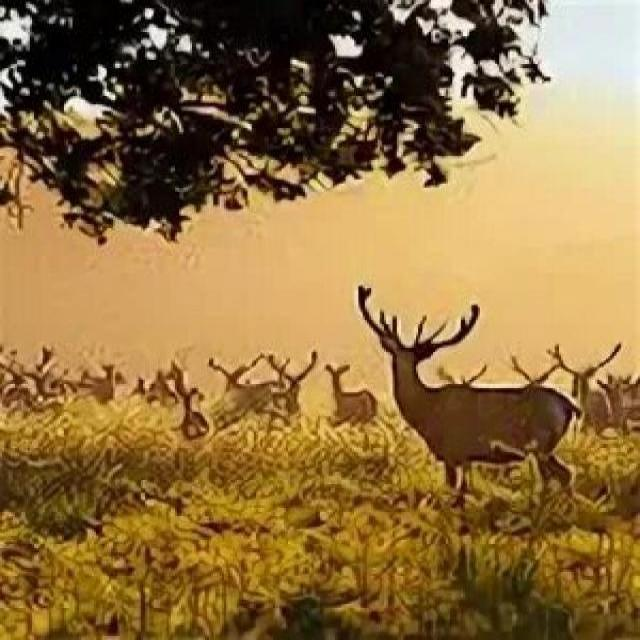deer: (336, 287, 640, 561)
